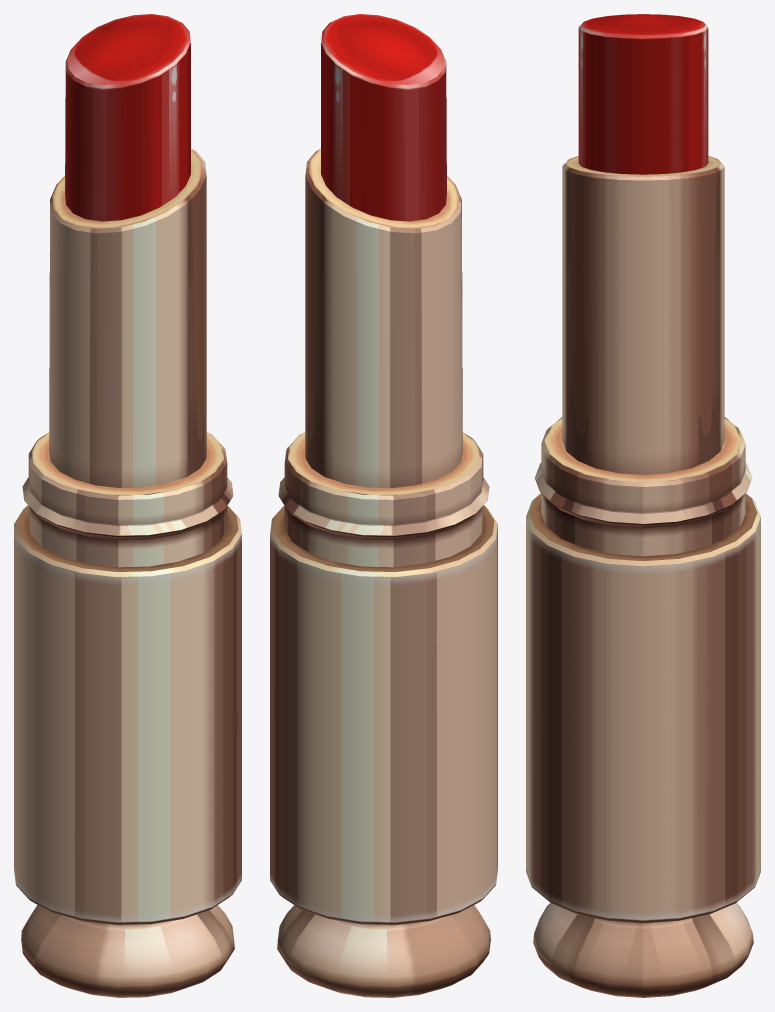
Rendered from LSK_004.fbx.
The picture shows the model from 3 angles, left to right: view 1: azimuth 30°, elevation 25°; view 2: azimuth 150°, elevation 25°; view 3: azimuth 270°, elevation 25°; orthographic projection. The views are drawn at different scales.
Visible parts, largest first — view 1: LSK_004; view 2: LSK_004; view 3: LSK_004.
Part boxes in pixels (x1,y1,x2,y2): LSK_004: (14, 14, 241, 997); LSK_004: (270, 14, 497, 997); LSK_004: (526, 14, 760, 997).
Bounding box in the file's own units: 59.38 × 268 × 59.38.
1 material, 1 textured.
